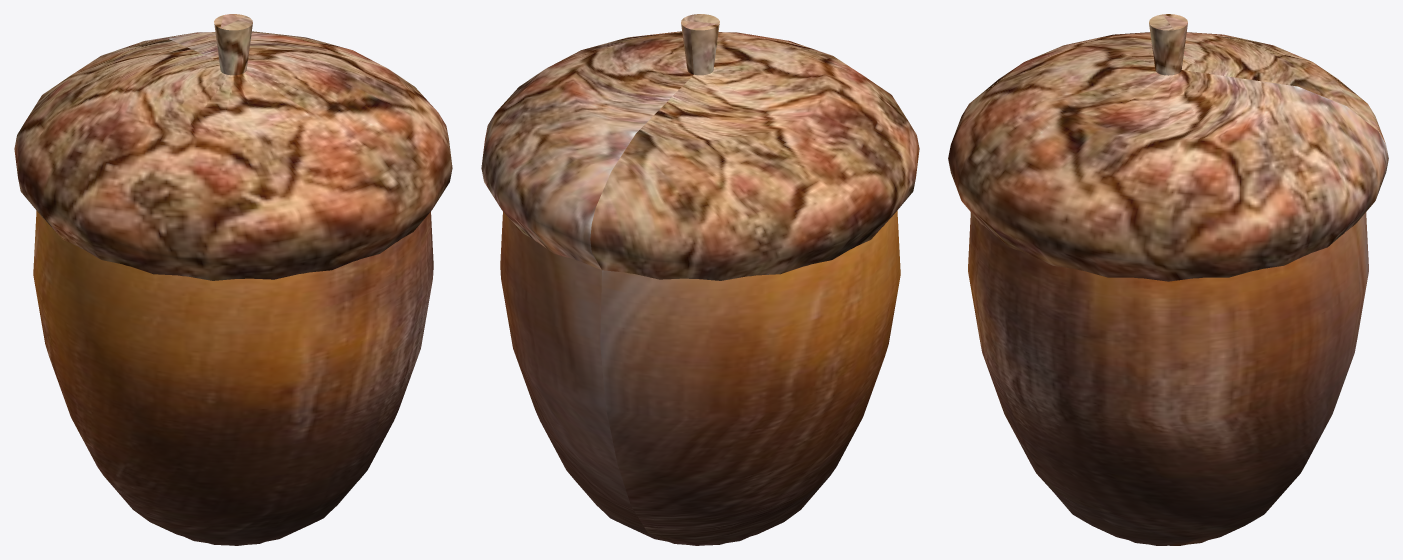
Rendered from agern.fbx.
3 renders of one model, left to right at view 1: azimuth 30°, elevation 25°; view 2: azimuth 150°, elevation 25°; view 3: azimuth 270°, elevation 25°, orthographic.
Visible parts, largest first — view 1: pCylinder4; view 2: pCylinder4; view 3: pCylinder4.
Boxes of the visible parts, left/top/right/bottom form: pCylinder4: left=14, top=14, right=452, bottom=545; pCylinder4: left=481, top=14, right=919, bottom=545; pCylinder4: left=948, top=14, right=1388, bottom=545.
Bounding box in the file's own units: 6.1 × 7.86 × 6.1.
